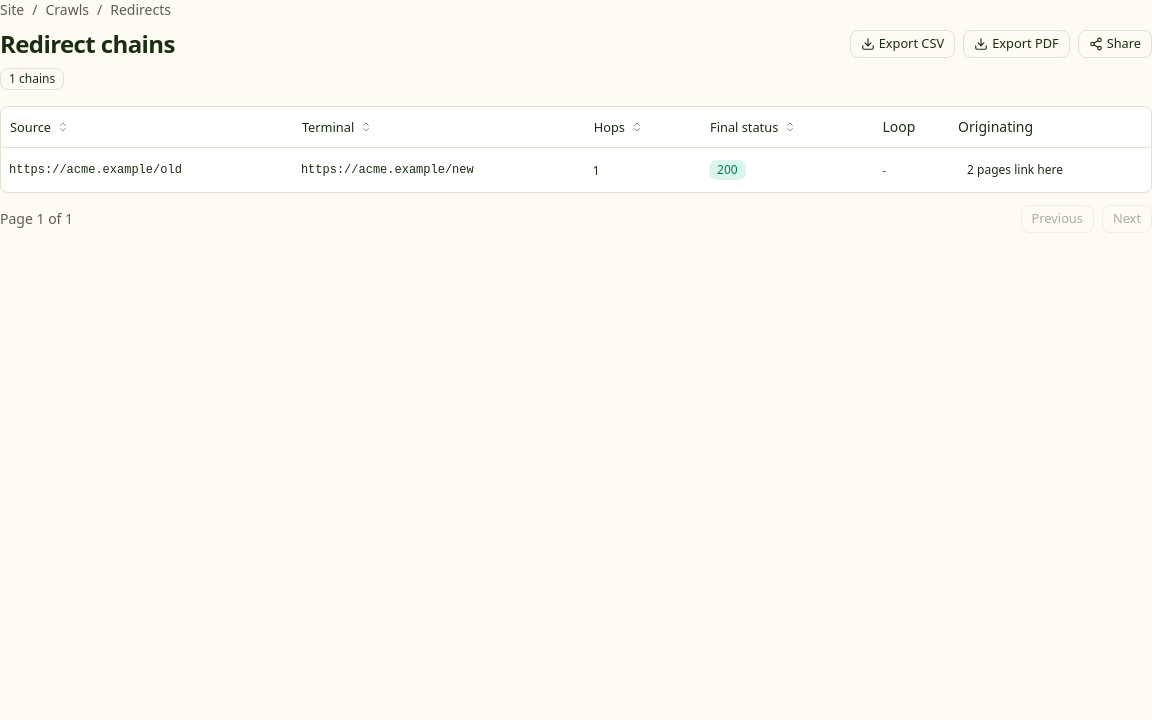
RedirectsReport › renders the originating-pages popover with the URL list
The image size is (1152, 720).
Click the button "2 pages link here". click: [1015, 170]
box: [958,156,1072,184]
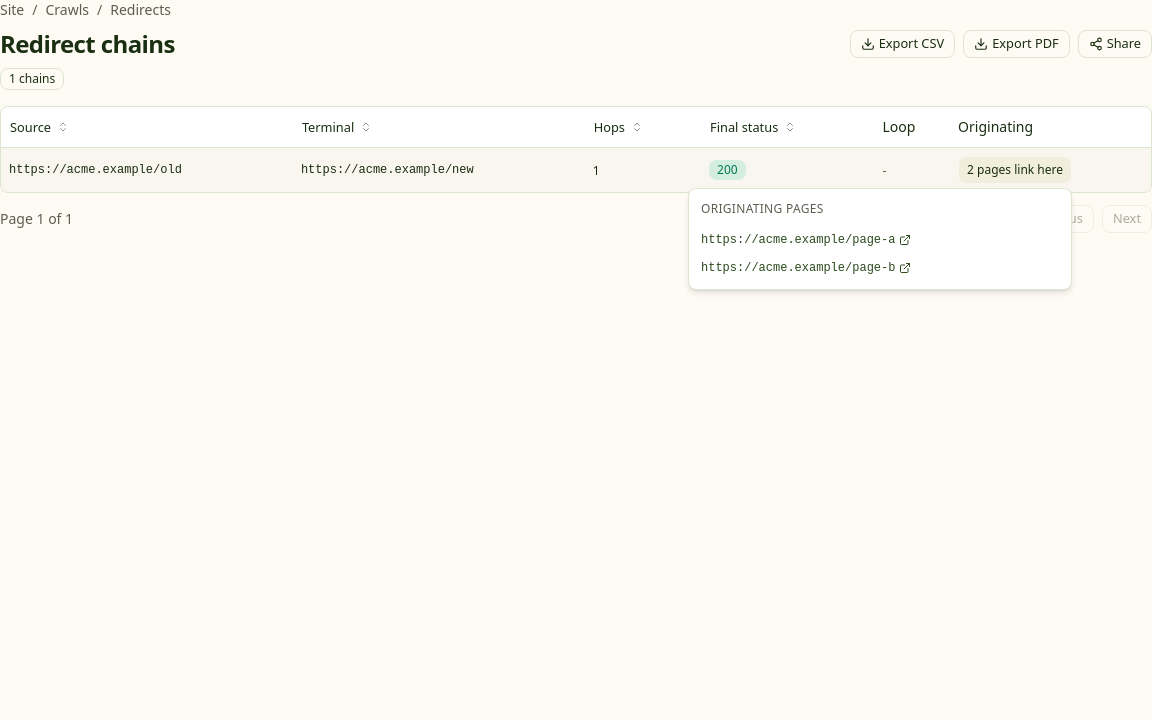
Result: the link "https://acme.example/page-a" is shown at [701,232,911,248]
Result: the link "https://acme.example/page-b" is shown at [701,260,911,276]
